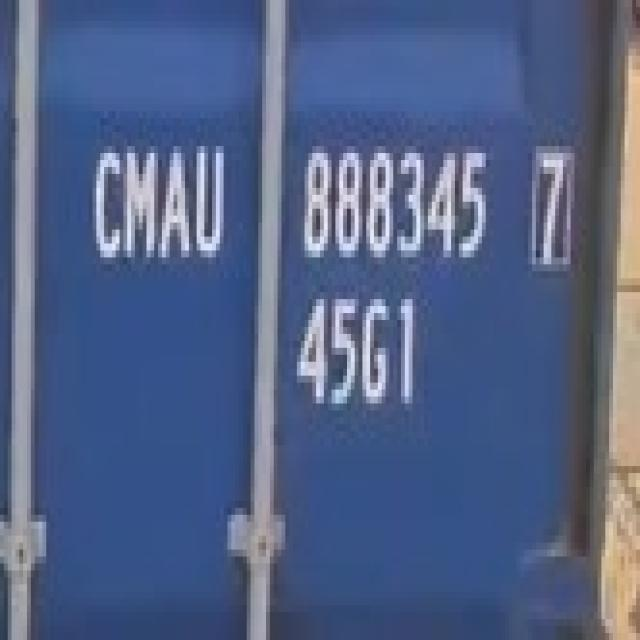dv: (526, 131, 578, 276)
owner: (84, 138, 236, 271)
serial: (295, 138, 494, 267)
size: (281, 288, 426, 414)
